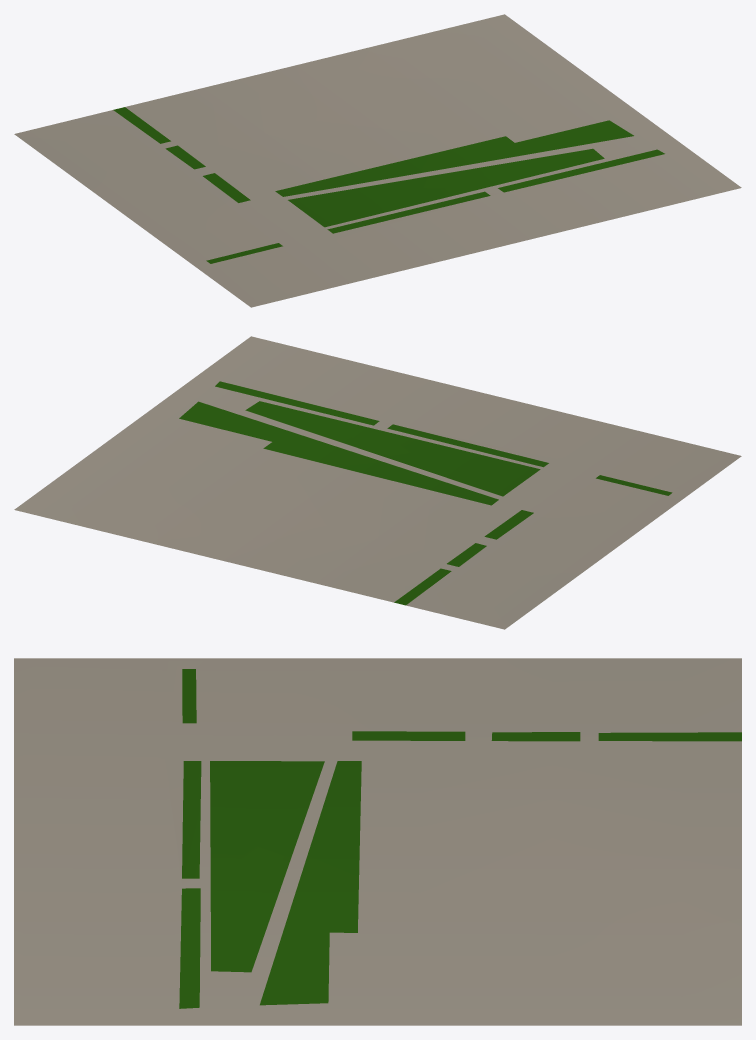
Rendered from Blockout_Plane_01.fbx.
3 views of the same model, one above another, from view 1: azimuth 30°, elevation 25°; view 2: azimuth 150°, elevation 25°; view 3: azimuth 270°, elevation 25° (orthographic). The views are drawn at different scales.
Visible parts, largest first — view 1: Blockout_Plane; view 2: Blockout_Plane; view 3: Blockout_Plane.
Part boxes in pixels (bbox=[...]): Blockout_Plane: bbox=[14, 14, 741, 307]; Blockout_Plane: bbox=[14, 336, 741, 629]; Blockout_Plane: bbox=[14, 658, 741, 1025].
Size of the model in its own units: 25419 by 0.00347 by 21271.
